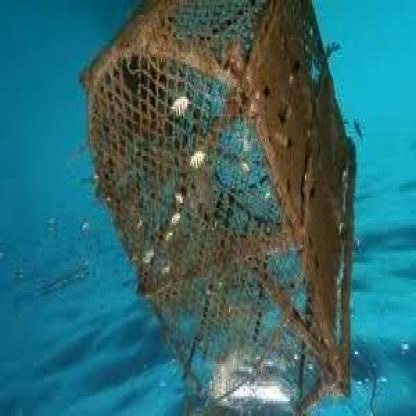net: (87, 5, 356, 409)
